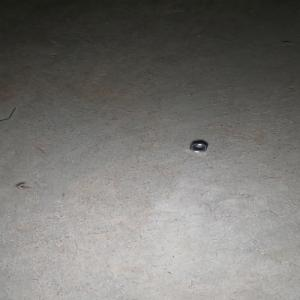Nut: (189, 142, 208, 153)
